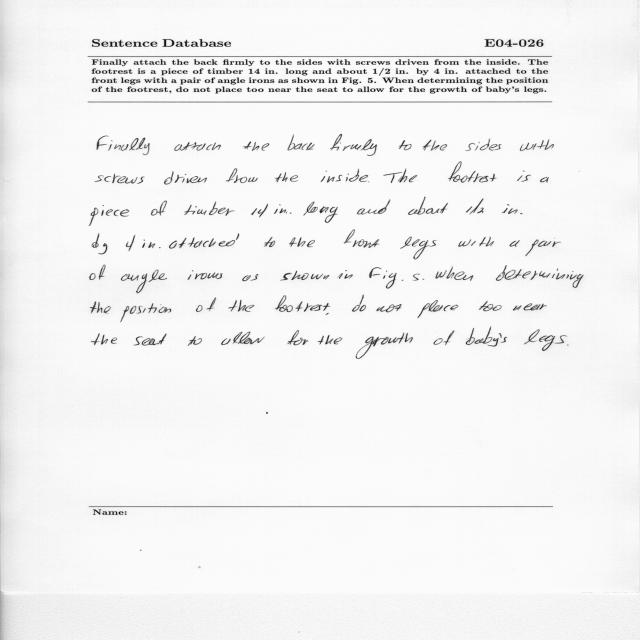word: (496, 265, 584, 288), (356, 332, 413, 359), (466, 327, 540, 346), (169, 233, 239, 249), (275, 295, 330, 315), (121, 270, 167, 293), (330, 134, 377, 156), (448, 162, 497, 183), (97, 136, 150, 155), (120, 304, 171, 323), (400, 237, 437, 260), (89, 205, 129, 226), (303, 201, 338, 223), (184, 201, 235, 216), (417, 300, 459, 318), (369, 267, 403, 289), (408, 197, 448, 215), (466, 199, 510, 215), (321, 169, 368, 183), (344, 230, 380, 248), (525, 238, 561, 256), (221, 332, 265, 345), (164, 171, 207, 184), (436, 266, 473, 281), (384, 168, 418, 183), (95, 174, 145, 184), (280, 271, 330, 281), (225, 168, 258, 183), (357, 200, 390, 215), (465, 138, 502, 151), (287, 135, 315, 151), (539, 335, 567, 351), (174, 142, 221, 151), (520, 139, 554, 151), (458, 236, 494, 247), (134, 334, 167, 346), (187, 270, 223, 280), (92, 234, 107, 255), (288, 330, 309, 345), (434, 331, 455, 346), (228, 300, 254, 312), (91, 334, 117, 346), (196, 297, 216, 312), (90, 301, 111, 314), (423, 140, 447, 151), (243, 141, 269, 151), (289, 237, 315, 247), (151, 201, 167, 216), (513, 304, 547, 311), (275, 173, 298, 183), (479, 301, 502, 311), (90, 265, 105, 280), (251, 204, 268, 217), (318, 335, 342, 344), (376, 304, 402, 312), (352, 295, 364, 312), (274, 204, 292, 214), (517, 171, 531, 182), (142, 240, 161, 248), (126, 235, 135, 251), (188, 336, 202, 346), (338, 270, 353, 279), (399, 140, 412, 150), (242, 274, 259, 281), (264, 237, 275, 247), (508, 208, 523, 214), (510, 240, 520, 247), (413, 274, 420, 281), (540, 177, 549, 182), (360, 305, 366, 311), (423, 279, 425, 280), (567, 345, 569, 346), (368, 182, 369, 183)
